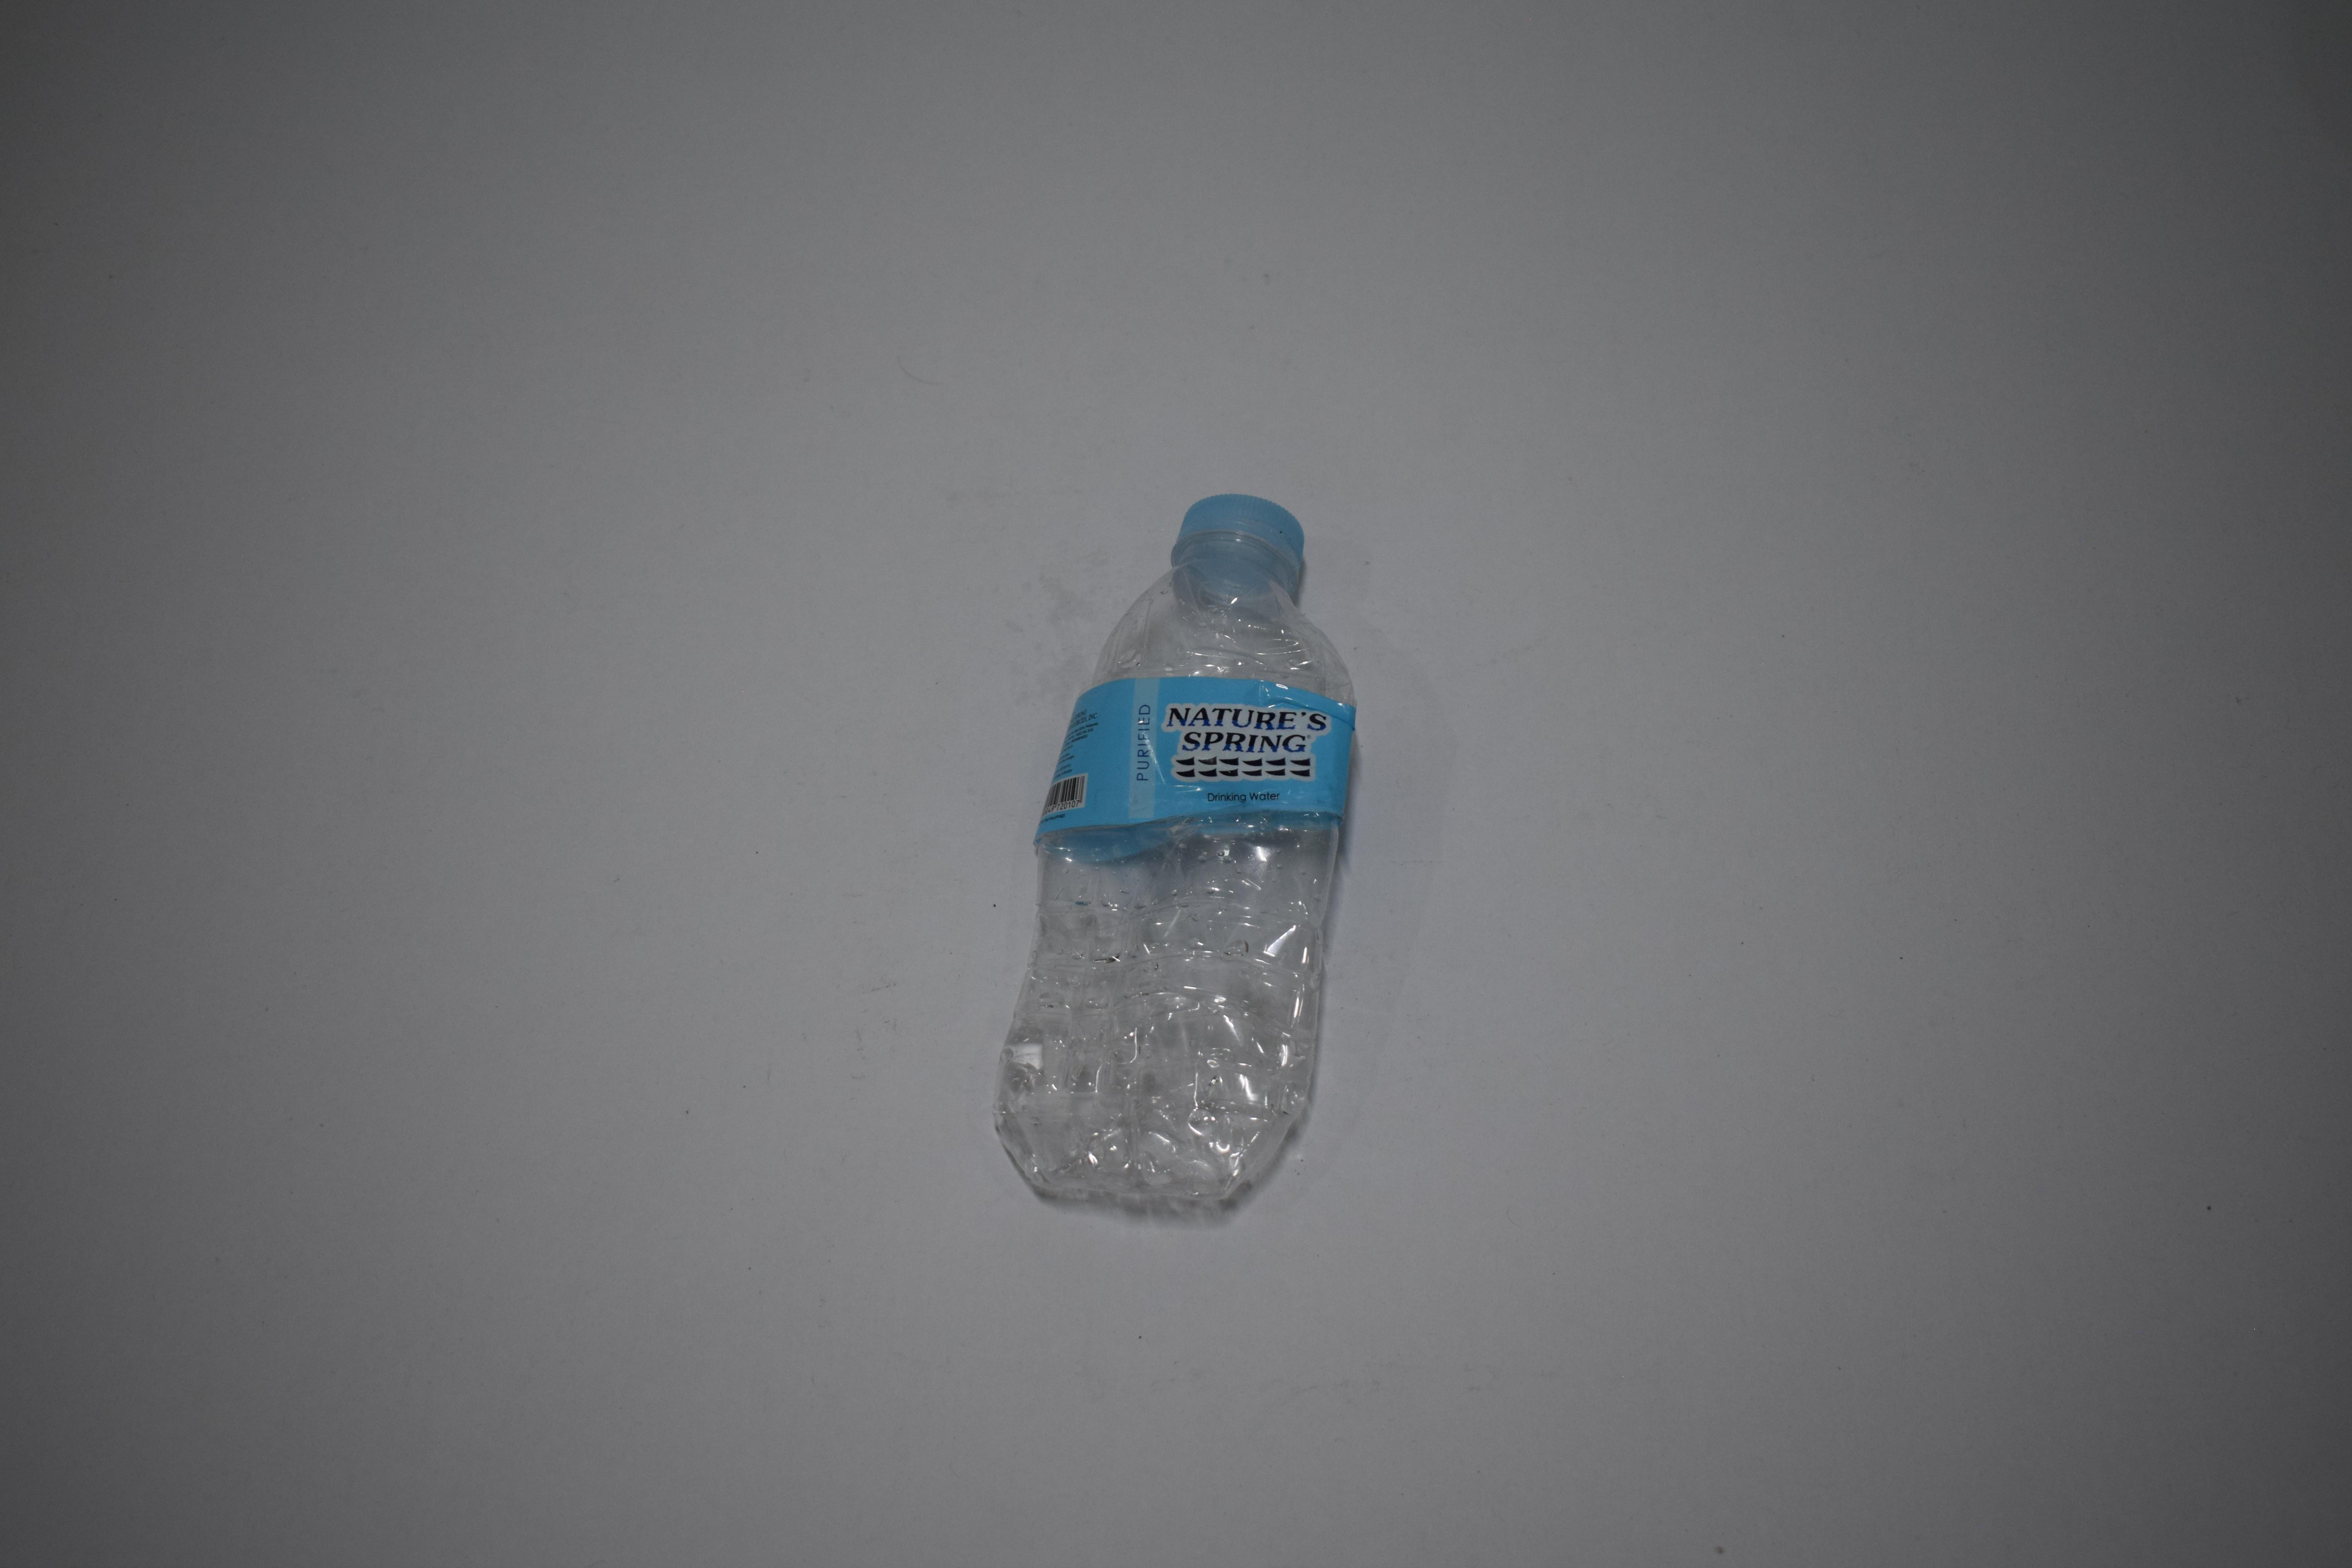bottle: (0, 0, 193, 443)
